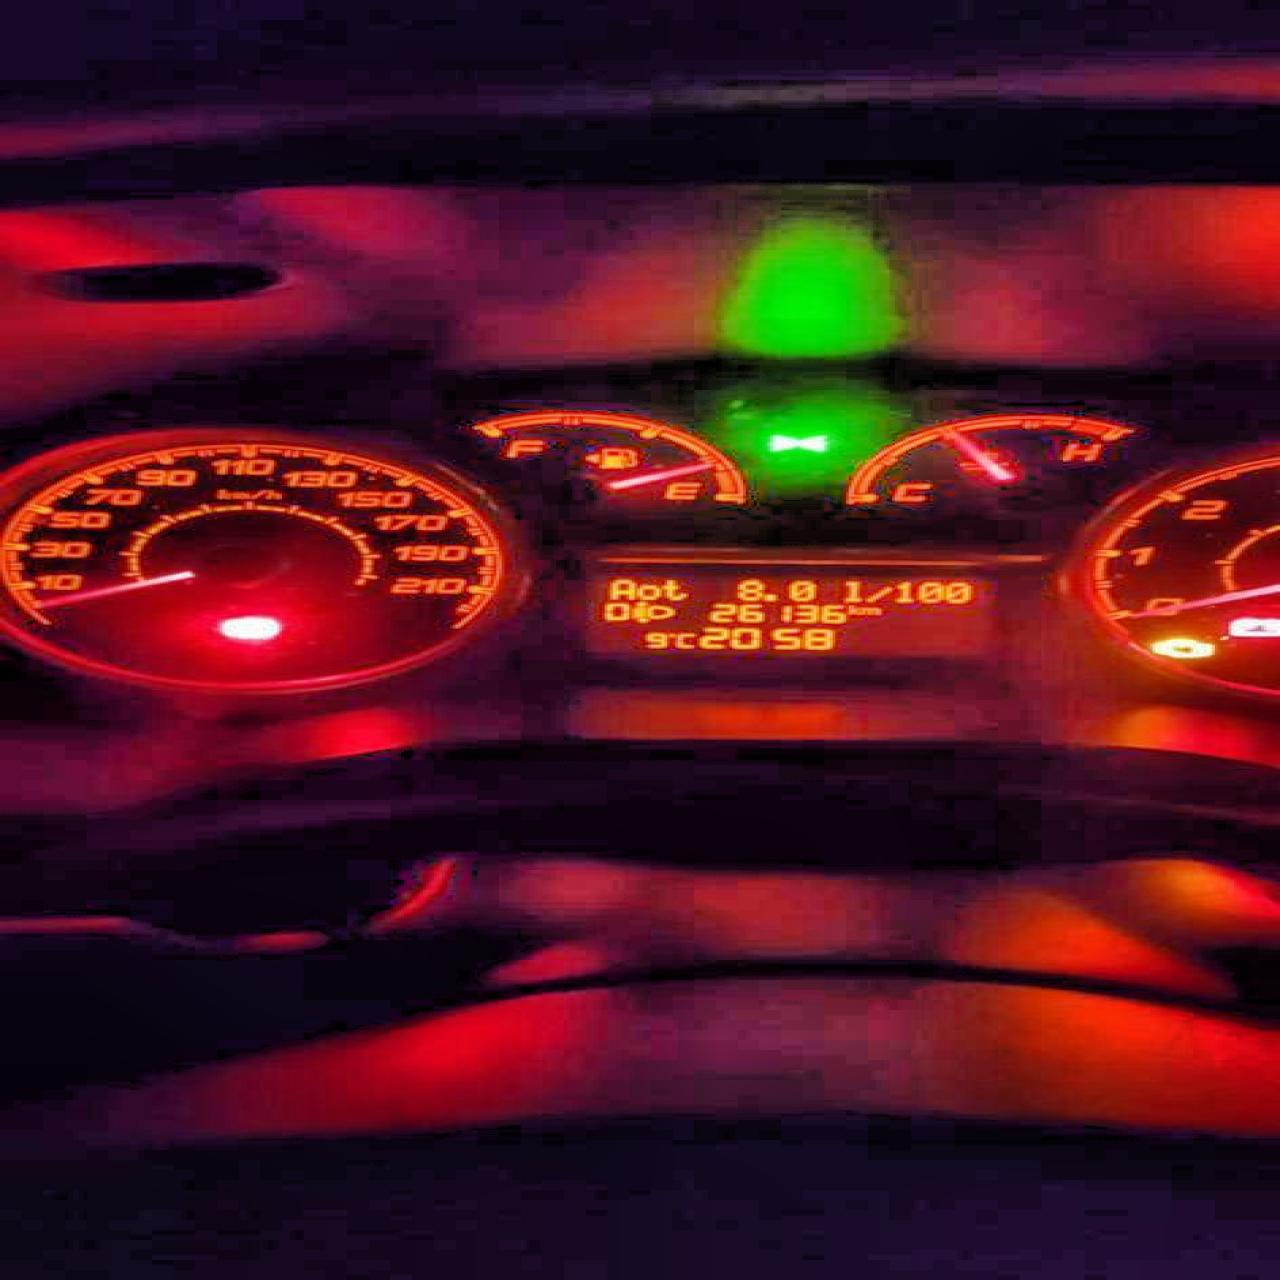-: (760, 592, 776, 601)
0: (727, 626, 760, 648), (783, 579, 813, 601), (941, 581, 971, 602), (914, 581, 944, 602), (602, 601, 629, 620)
1: (892, 580, 911, 602), (778, 604, 791, 621)
2: (694, 626, 727, 647), (704, 602, 735, 621)
3: (791, 604, 816, 621)
5: (770, 626, 799, 648)
6: (819, 604, 846, 622), (735, 602, 762, 621)
8: (801, 627, 832, 648), (735, 579, 762, 600)
9: (642, 632, 667, 647)
X: (659, 578, 689, 600), (605, 578, 634, 600), (863, 585, 890, 602), (840, 580, 859, 601), (635, 584, 659, 600), (673, 633, 694, 648), (859, 606, 878, 615), (846, 604, 859, 615)
odometer: (572, 570, 1001, 659)
